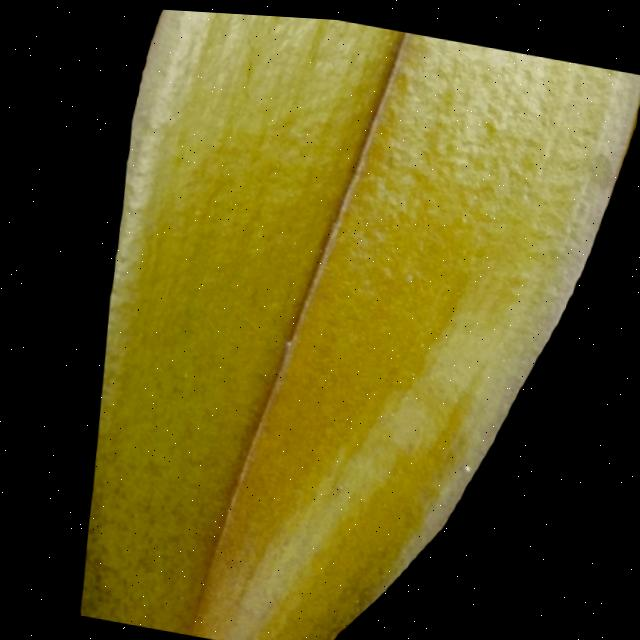mite: (397, 258, 420, 287), (476, 109, 500, 136), (455, 451, 473, 474), (481, 112, 497, 131), (401, 265, 415, 280), (459, 456, 470, 469)
spots: (72, 6, 640, 640)
